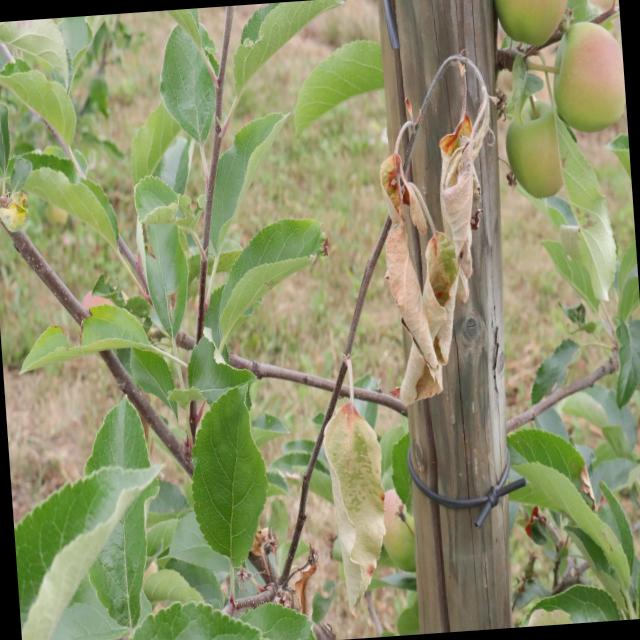-FireBlight-: (368, 53, 493, 407), (315, 389, 398, 615)
